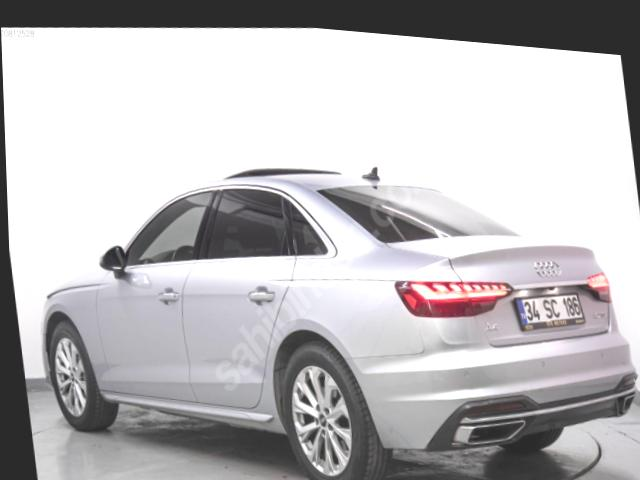plaka: (515, 293, 585, 330)
